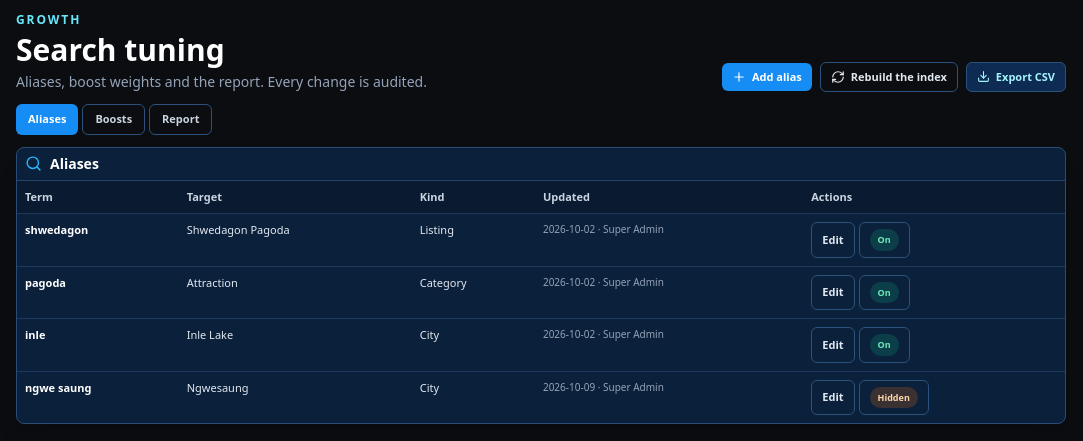
Test: Search tuning (O-67, §3A.12) › names the index object a boost lifts, so a save can be sent
Click the button "Boosts" at (114, 119), box left=82, top=104, right=145, bottom=134
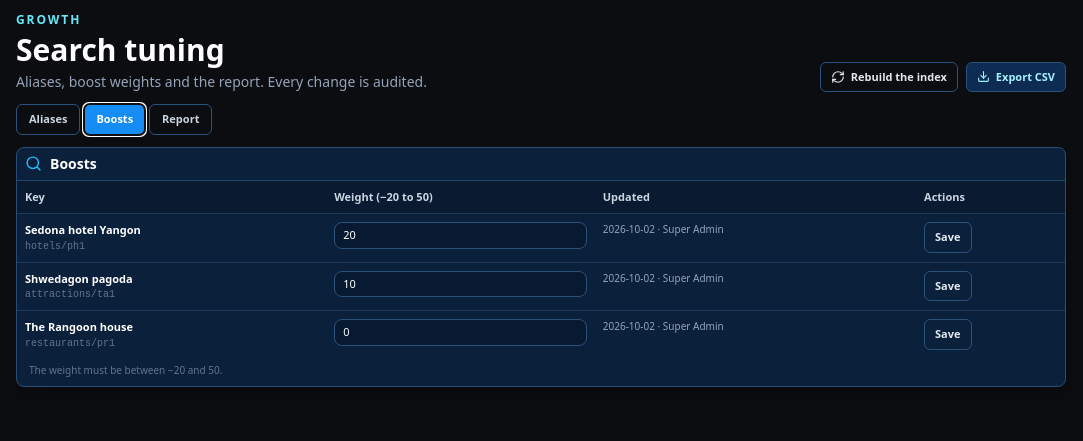
Expected: the number field named "Sedona hotel Yangon" holds "20", left=334, top=222, right=587, bottom=248
Expected: the text "attractions/ta1" is shown, left=25, top=289, right=115, bottom=300
Expected: the number field named "Shwedagon pagoda" holds "10", left=334, top=270, right=587, bottom=297
